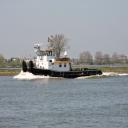tugboat: (23, 44, 104, 82)
